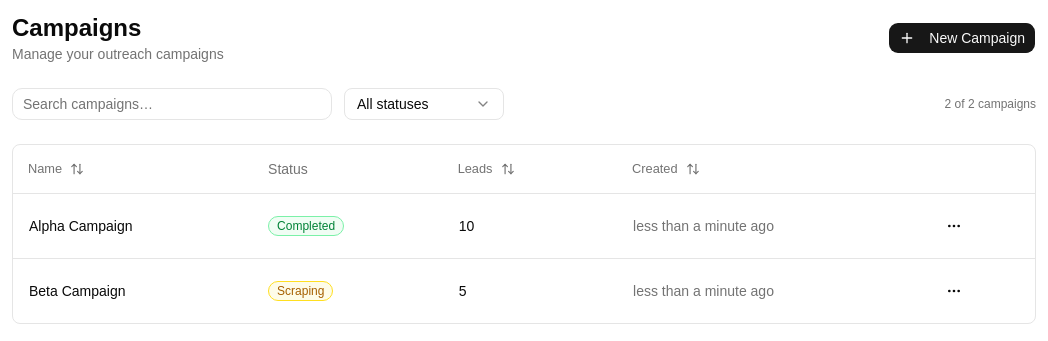
Test: CampaignList › filters campaigns by name search
The width and height of the screenshot is (1048, 341).
Check: the link "Alpha Campaign" is shown, box [29,218,132,234]
Type "alpha" into the field with placeholder "Search campaigns…" at (172,104), box [12,88,332,120]
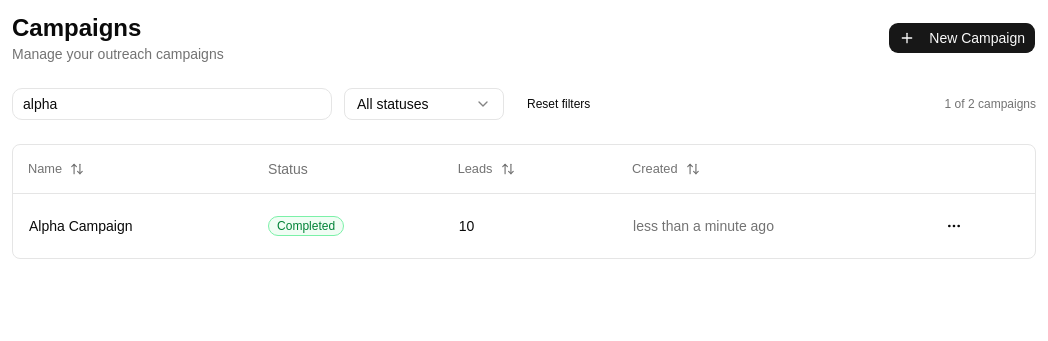
Check: the link "Alpha Campaign" is shown, box [29,218,132,234]
Check: the link "Beta Campaign" is gone
